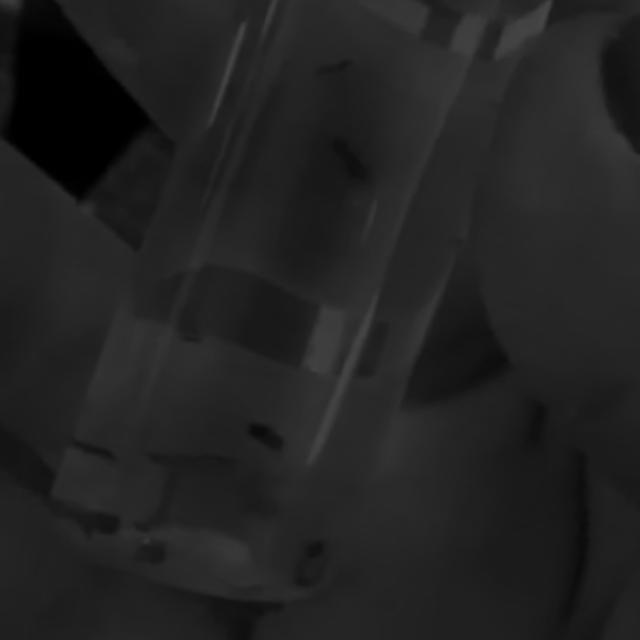larvas: (136, 476, 180, 532), (296, 539, 328, 586), (152, 451, 228, 470), (337, 141, 368, 182), (247, 423, 286, 450), (76, 439, 114, 464), (315, 61, 352, 77)
